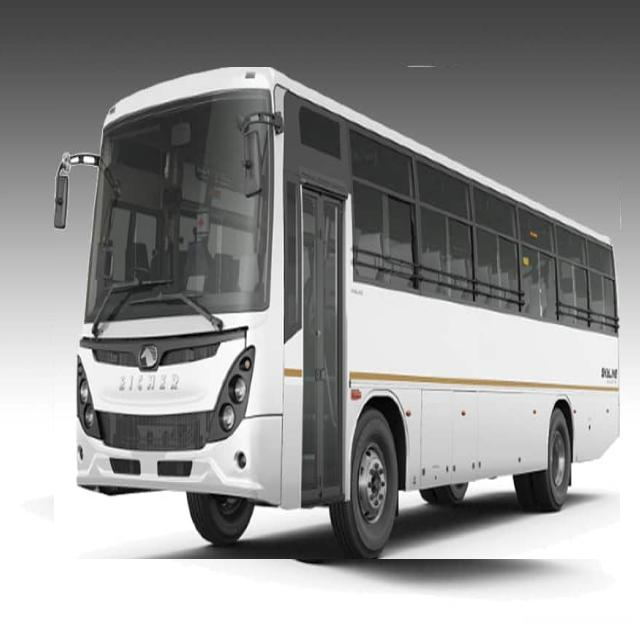bus: (54, 67, 620, 559)
